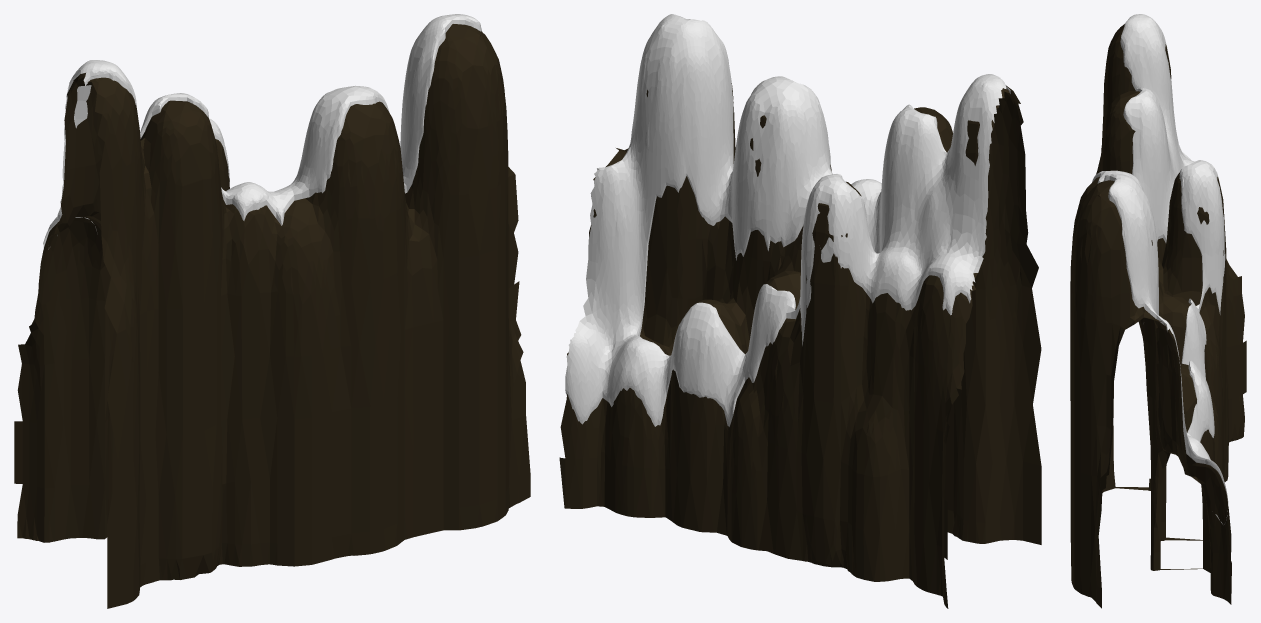
Rendered from Mtn_Wall_W1.fbx.
3 renders of one model, left to right at view 1: azimuth 30°, elevation 25°; view 2: azimuth 150°, elevation 25°; view 3: azimuth 270°, elevation 25°, orthographic. The views are drawn at different scales.
Parts seen in each view (by area): view 1: Mtn_Wall_W1; view 2: Mtn_Wall_W1; view 3: Mtn_Wall_W1.
Boxes of the visible parts, x1=… form: Mtn_Wall_W1: x1=14, y1=14, x2=530, y2=608; Mtn_Wall_W1: x1=559, y1=14, x2=1041, y2=608; Mtn_Wall_W1: x1=1070, y1=14, x2=1246, y2=608.
Size of the model in its own units: 23934 by 27369 by 10237.
